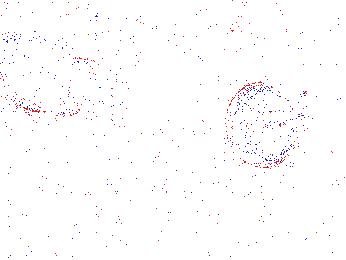moon jellyfish: (223, 81, 299, 169), (1, 38, 85, 117), (128, 51, 215, 122), (36, 57, 126, 107), (169, 48, 230, 83)
